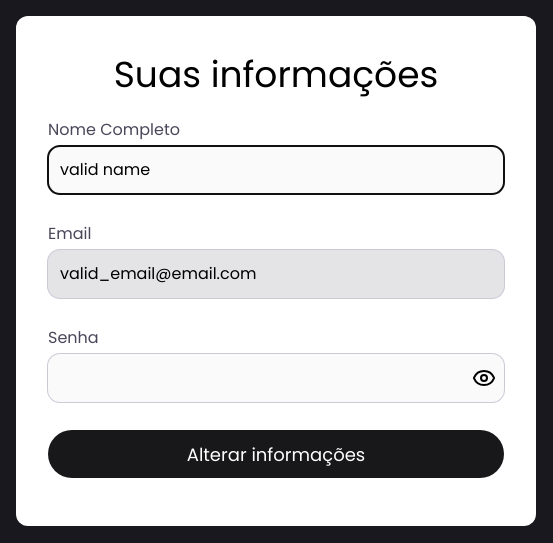
Test: Profile Page › should disable submit button while loading
In the password field labelled "Senha": coordinates (276, 378) [48,354,504,402], type "validPassword"
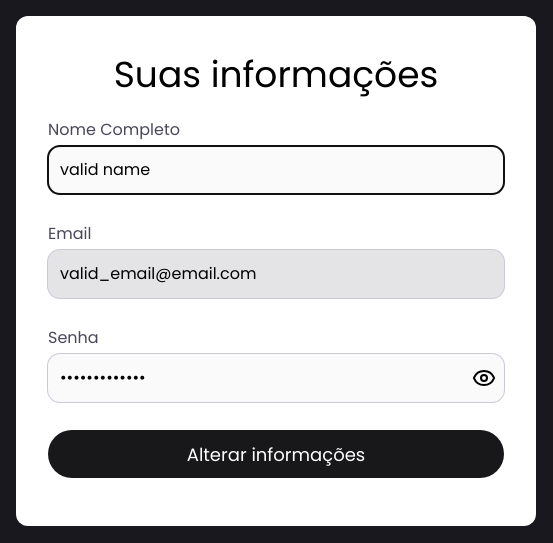
Click the button "Alterar informações": coordinates (276, 454) [48,430,504,478]
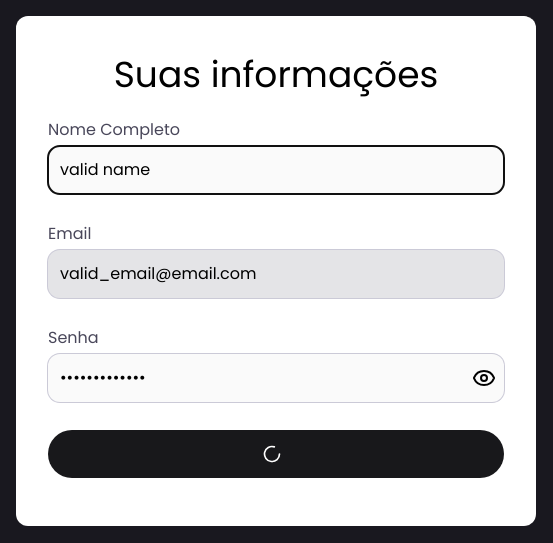
Now the button "Alterar informações" is disabled, box [48,430,504,478]
Now the icon with test id "loader" is shown, box [262,444,282,464]
